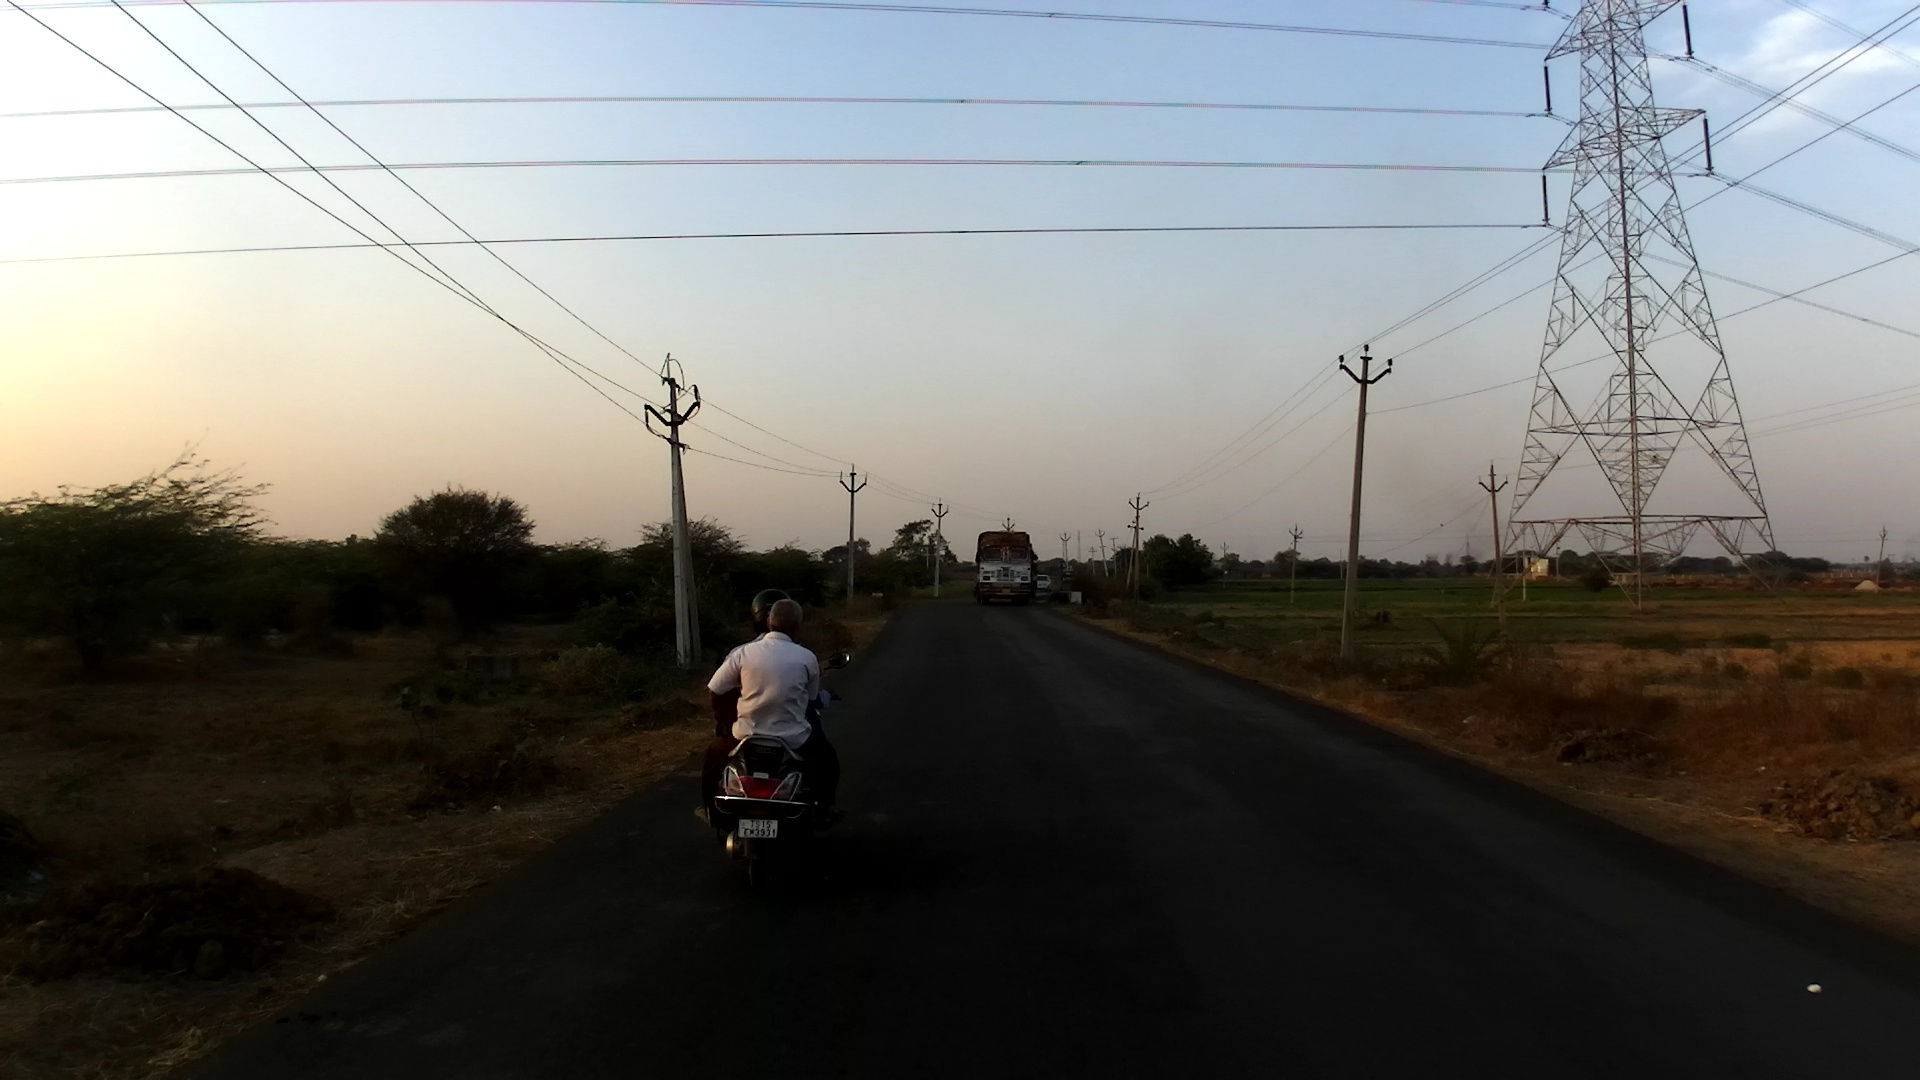car: (1033, 572, 1055, 592)
motorcycle: (698, 646, 855, 897)
rider: (704, 595, 844, 836), (707, 589, 842, 817)
truck: (969, 530, 1038, 609)
